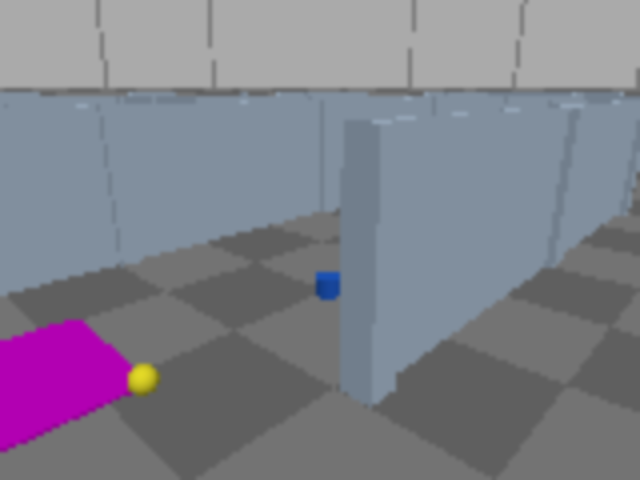goal_zone: (0, 317, 152, 478)
puck: (121, 355, 165, 406), (316, 271, 340, 298)
